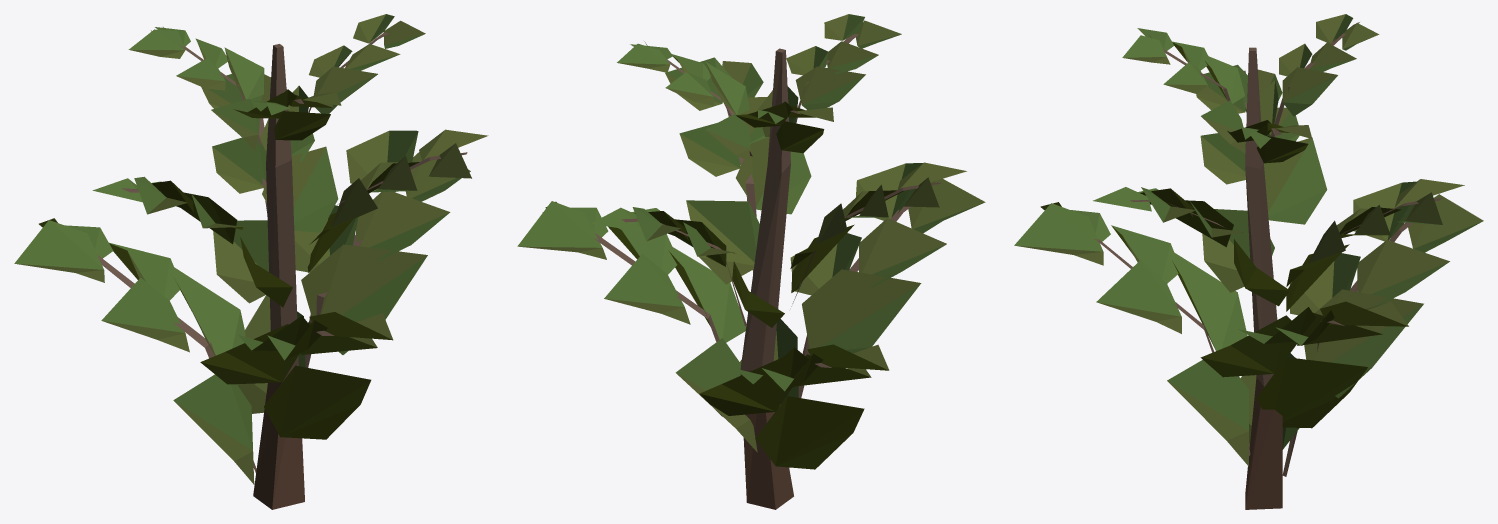
3 renders of one model, left to right at view 1: azimuth 30°, elevation 25°; view 2: azimuth 150°, elevation 25°; view 3: azimuth 270°, elevation 25°, orthographic. The views are drawn at different scales.
Size of the model in its own units: 123 by 133 by 126.
Materials: 1 (1 with a texture image).
